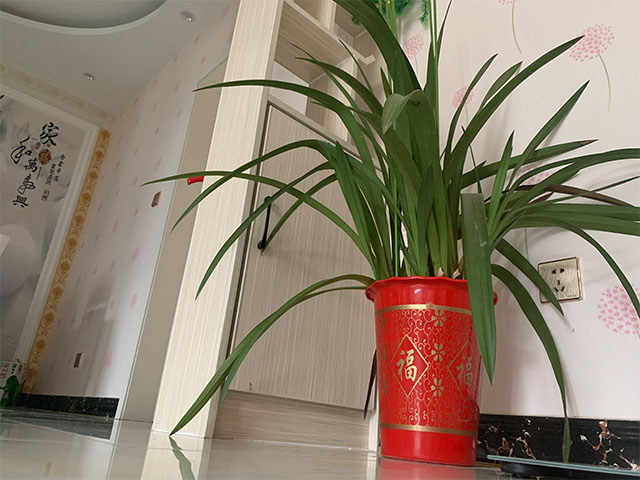cabinet: (149, 1, 403, 449)
